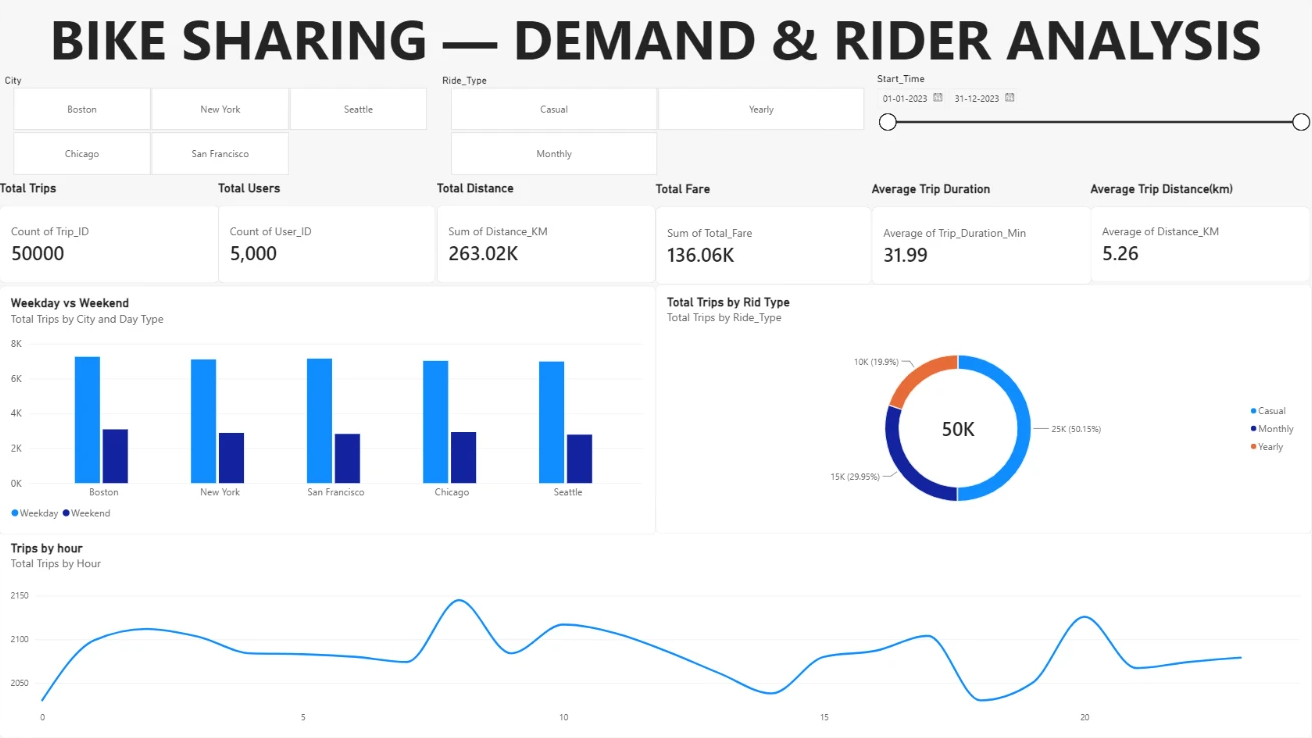

Layout of this report page (visuals, bound fields, positions):
{"tool":"powerbi","page":{"name":"Page 1","canvas":[1920,1080],"ordinal":0},"visuals":[{"type":"textbox","box":[0,0,1919.7,107],"z":0},{"type":"slicer","fields":{"Values":["stations_data.City"]},"box":[0,107,644.4,149.4],"z":1000},{"type":"slicer","fields":{"Values":["trips_data.Ride_Type"]},"box":[639.9,107,644.4,149.4],"z":2000},{"type":"slicer","fields":{"Values":["trips_data.Start_Time"]},"box":[1276.1,106.3,644.4,149.4],"z":3000},{"type":"cardVisual","title":"Total Trips","fields":{"Data":["CountNonNull(trips_data.Trip_ID)"]},"box":[0,264.9,322,150],"z":4000},{"type":"cardVisual","title":"Average Trip Duration","fields":{"Data":["Avg(trips_data.Trip_Duration_Min)"]},"box":[1276,266,322,150],"z":5000},{"type":"cardVisual","title":"Total Distance","fields":{"Data":["Sum(trips_data.Distance_KM)"]},"box":[640,264,320,150],"z":6000},{"type":"cardVisual","title":"Total Fare","fields":{"Data":["Sum(revenue_data.Total_Fare)"]},"box":[960,266,316,150],"z":7000},{"type":"cardVisual","title":"Total Users","fields":{"Data":["CountNonNull(users_data.User_ID)"]},"box":[320.9,263.1,318,150],"z":8000},{"type":"lineChart","title":"Trips by hour","fields":{"Category":["trips_data.Hour"],"Y":["trips_data.Total Trips"]},"box":[0,776,1919.7,303.7],"z":9000},{"type":"clusteredColumnChart","title":"Weekday vs Weekend","fields":{"Category":["users_data.City"],"Series":["trips_data.Day Type"],"Y":["trips_data.Total Trips"]},"box":[0,417.9,959.9,364.1],"z":10000},{"type":"donutChart","title":"Total Trips by Rid Type","fields":{"Category":["trips_data.Ride_Type"],"Y":["trips_data.Total Trips"]},"box":[960,416,959.9,364.1],"z":11000},{"type":"cardVisual","title":"Average Trip Distance(km)","fields":{"Data":["Avg(trips_data.Distance_KM)"]},"box":[1597,266.8,322,146],"z":12000}]}

Visuals, with their boxes in screenshot pixels (x1, y1, x2, y2), scaled from the page's 1920x1080 canvas onto the 1312x738 screenshot:
textbox: 0:0:1311:73
slicer - stations_data.City: 0:73:440:175
slicer - trips_data.Ride_Type: 437:73:878:175
slicer - trips_data.Start_Time: 872:73:1311:175
"Total Trips" cardVisual: 0:181:220:284
"Average Trip Duration" cardVisual: 872:182:1092:284
"Total Distance" cardVisual: 437:180:656:283
"Total Fare" cardVisual: 656:182:872:284
"Total Users" cardVisual: 219:180:437:282
"Trips by hour" lineChart: 0:530:1311:737
"Weekday vs Weekend" clusteredColumnChart: 0:286:656:534
"Total Trips by Rid Type" donutChart: 656:284:1311:533
"Average Trip Distance(km)" cardVisual: 1091:182:1311:282
